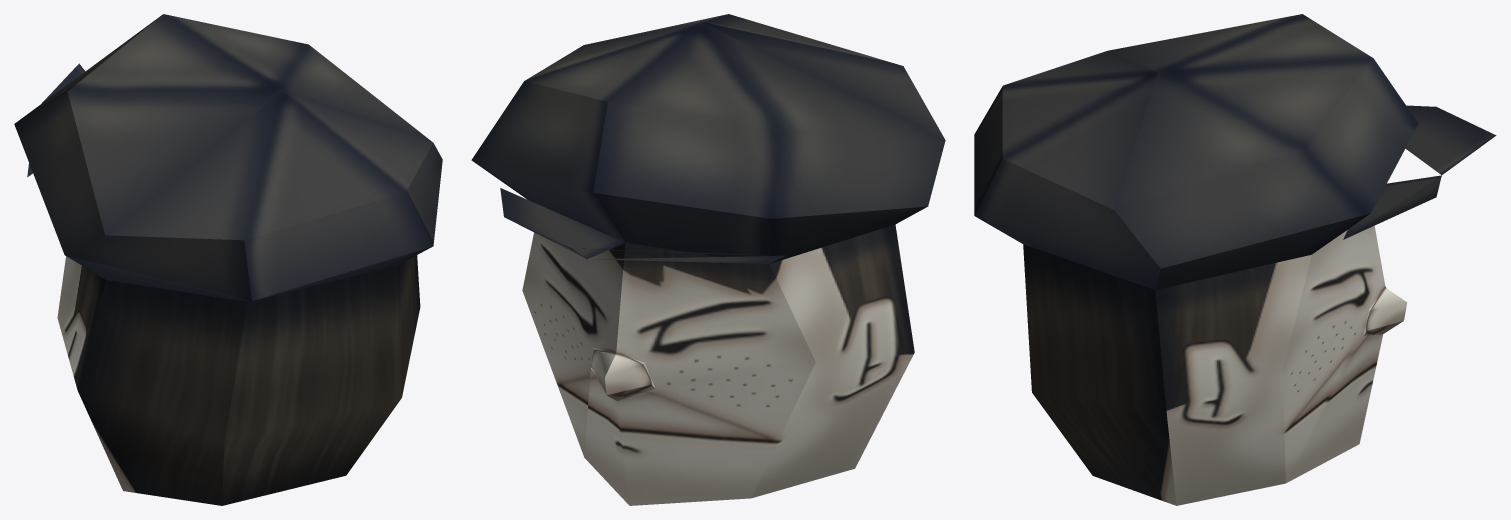
The model's file is paperboy.glb.
The picture shows the model from 3 angles, left to right: view 1: azimuth 30°, elevation 25°; view 2: azimuth 150°, elevation 25°; view 3: azimuth 270°, elevation 25°; orthographic projection. The views are drawn at different scales.
Parts seen in each view (by area): view 1: paperboy; view 2: paperboy; view 3: paperboy.
Part boxes in pixels (x1,y1,x2,y2): paperboy: [14, 14, 442, 505]; paperboy: [471, 14, 945, 505]; paperboy: [974, 14, 1496, 505].
Bounding box in the file's own units: 1.91 × 1.82 × 2.2.
1 material, 1 textured.
